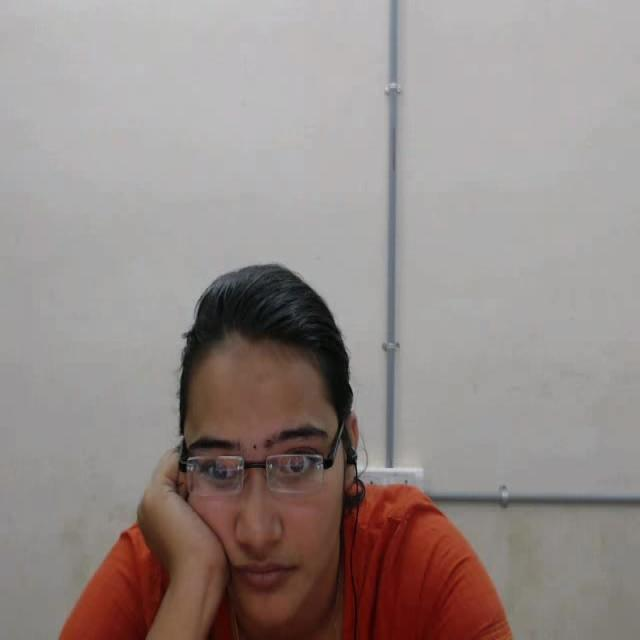Bored: (115, 259, 389, 640)
